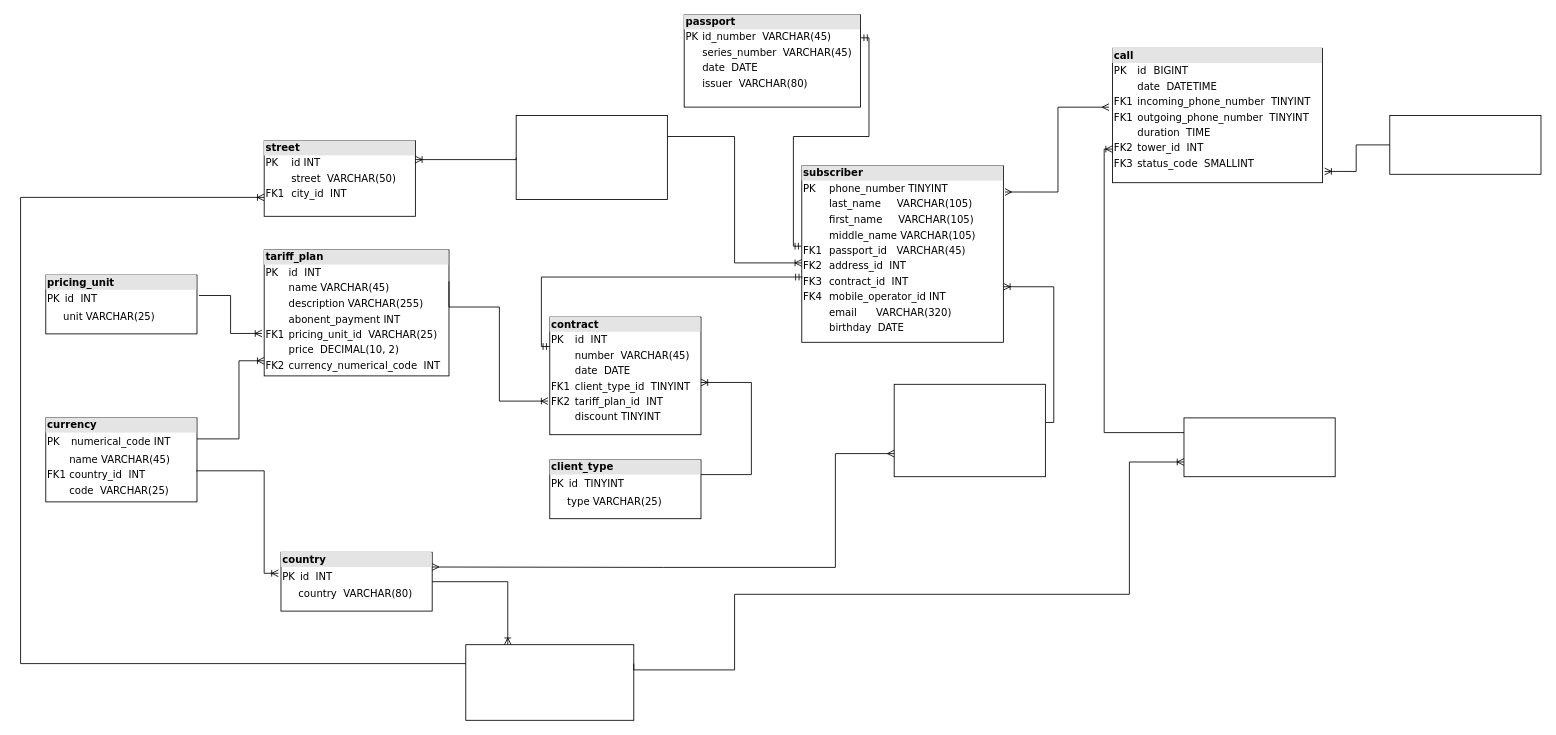
This 1556x735 diagram has some shape labels left out. The shapes that lost their labels are listed below. From the top down, each one's centre as x and y in pixels, then its label:
At pixel 591 157: "address PK id INT FK1 street_id INT house VARCHAR(25) flat VARCHAR(25)".
At pixel 1465 144: "status PK code SMALLINT status VARCHAR(45)".
At pixel 969 430: "mobile_operator PK id INT operator VARCHAR(45) code INT FK1 country_id INT".
At pixel 1259 447: "tower PK id INT FK1 location_city_id INT".
At pixel 549 682: "city PK id INT city VARCHAR(180) FK1 country_id INT".
